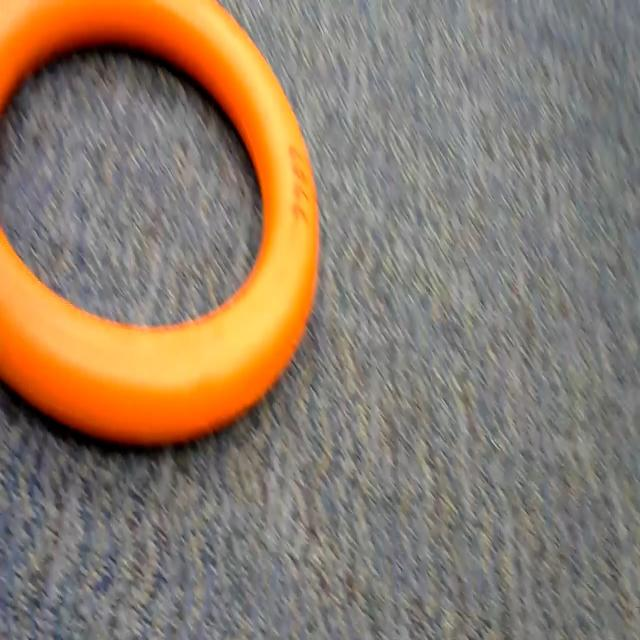note: (0, 0, 326, 475)
